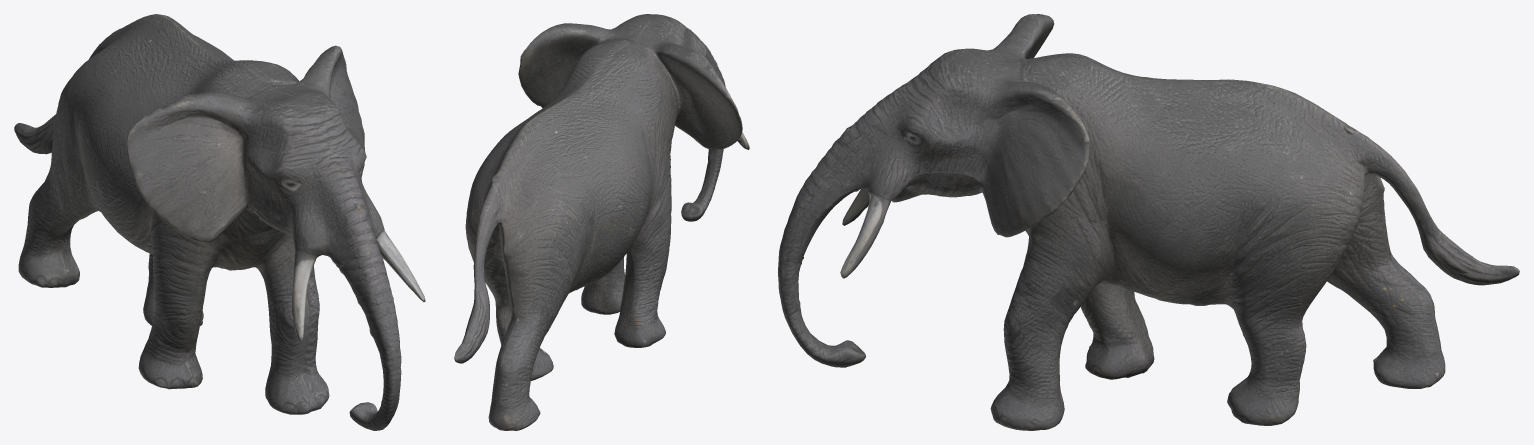
File: elephant_ce436a50.glb
The picture shows the model from 3 angles, left to right: view 1: azimuth 30°, elevation 25°; view 2: azimuth 150°, elevation 25°; view 3: azimuth 270°, elevation 25°; orthographic projection. The views are drawn at different scales.
Visible parts, largest first — view 1: Object_2; view 2: Object_2; view 3: Object_2.
Boxes of the visible parts, x1,y1,x2,y2 form: Object_2: (14,14,425,430); Object_2: (454,14,749,430); Object_2: (778,14,1519,430).
Size of the model in its own units: 2.93 by 3.85 by 7.3.
Materials: 1 (1 with a texture image).
